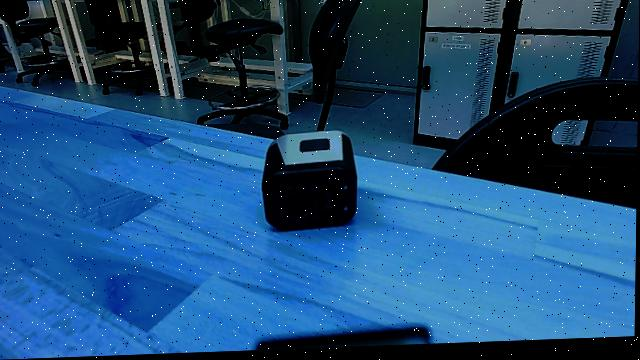adapter: (255, 127, 364, 242)
